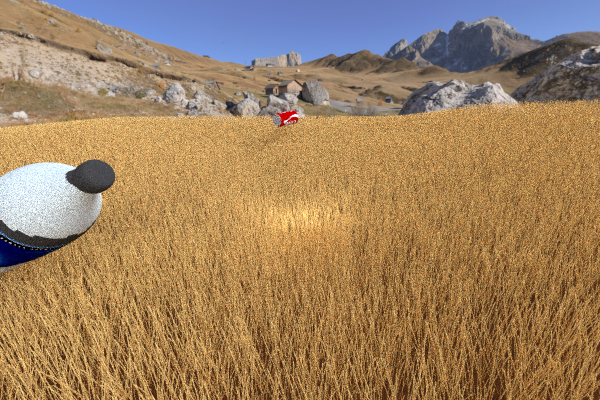bottle: (0, 159, 115, 279)
can: (173, 118, 214, 161), (272, 110, 298, 127)
